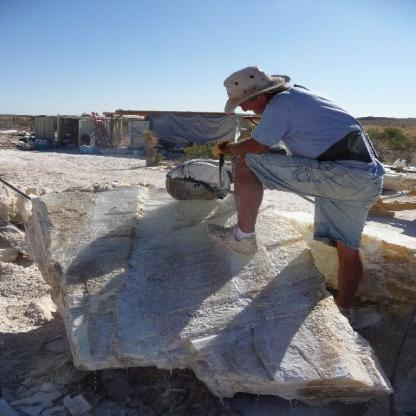person: (160, 53, 382, 335)
